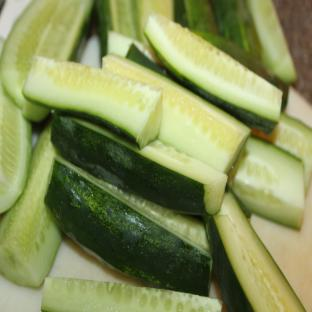Cucumber: (45, 160, 211, 295), (52, 116, 227, 214), (103, 56, 250, 172), (145, 14, 281, 133), (23, 57, 162, 148), (206, 193, 306, 312), (1, 0, 92, 121), (0, 127, 61, 286), (195, 32, 288, 110), (231, 137, 304, 228), (42, 278, 221, 311), (253, 114, 311, 192), (0, 83, 31, 213), (36, 0, 93, 60), (108, 31, 157, 62), (126, 44, 169, 78), (79, 35, 101, 68)
